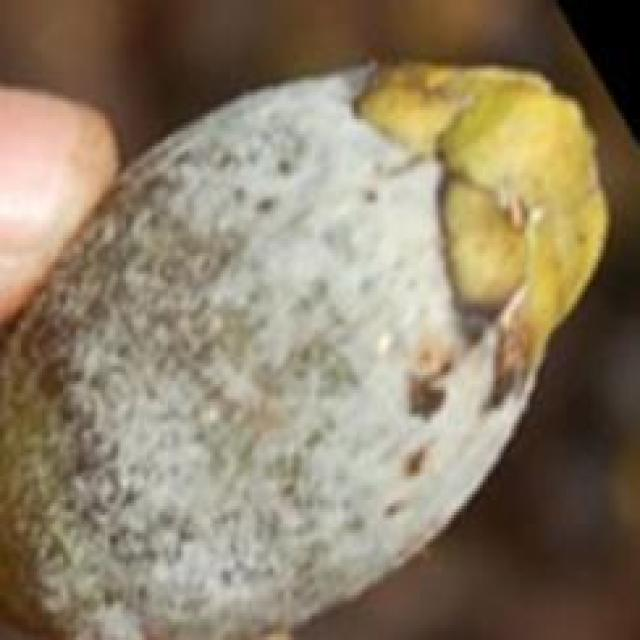damaged: (0, 63, 614, 637)
